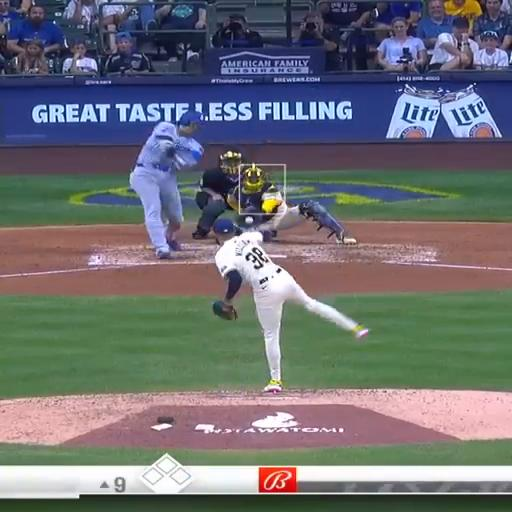bat: (172, 153, 189, 171)
